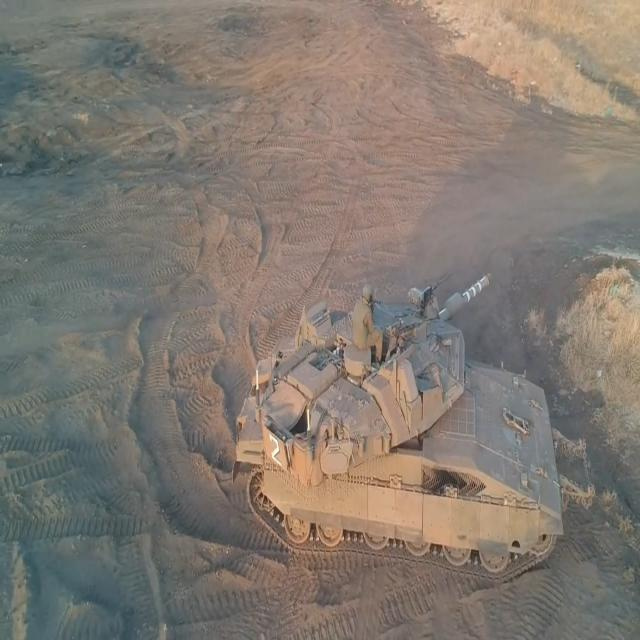tank: (227, 258, 580, 596)
